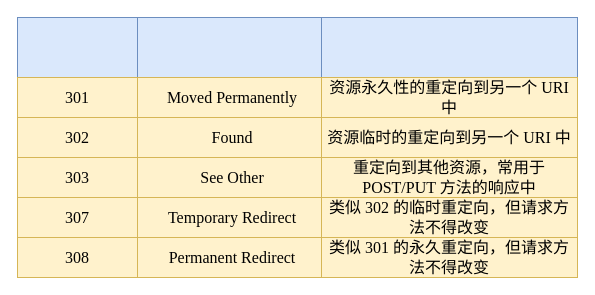
The diagram is 595 pixels wide and 295 high, and some of its shapes have lost their labels. The centre of each missing label's shape, as x and y in pixels:
响应状态码: pixel 77 47
意义: pixel 449 47
描述: pixel 232 47
